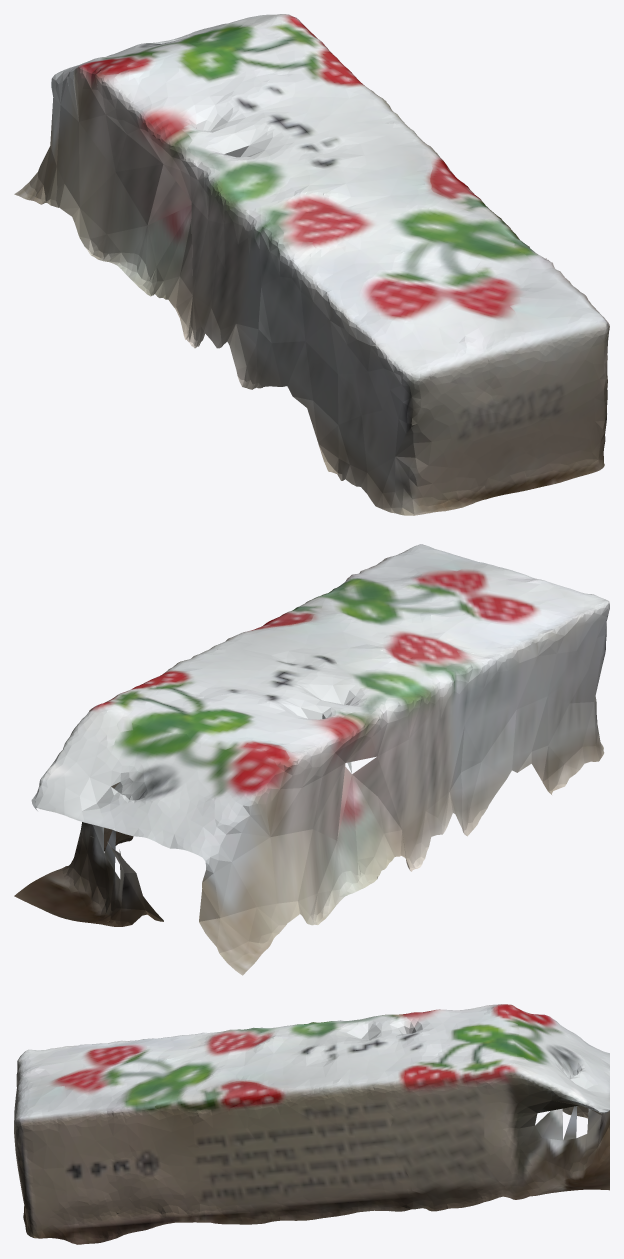
Rendered from Yokan.fbx.
3 renders of one model, top to bottom at view 1: azimuth 30°, elevation 25°; view 2: azimuth 150°, elevation 25°; view 3: azimuth 270°, elevation 25°, orthographic. The views are drawn at different scales.
Visible parts, largest first — view 1: mesh; view 2: mesh; view 3: mesh.
Part boxes in pixels (left/top/right/bottom): mesh: left=14, top=14, right=609, bottom=515; mesh: left=14, top=544, right=609, bottom=975; mesh: left=14, top=1004, right=609, bottom=1244.
Bounding box in the file's own units: 0.0326 × 0.0298 × 0.0949.
Materials: 1 (1 with a texture image).
